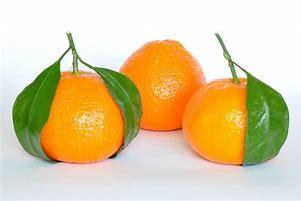orange: (8, 48, 137, 161), (117, 24, 198, 134), (186, 72, 278, 153)
